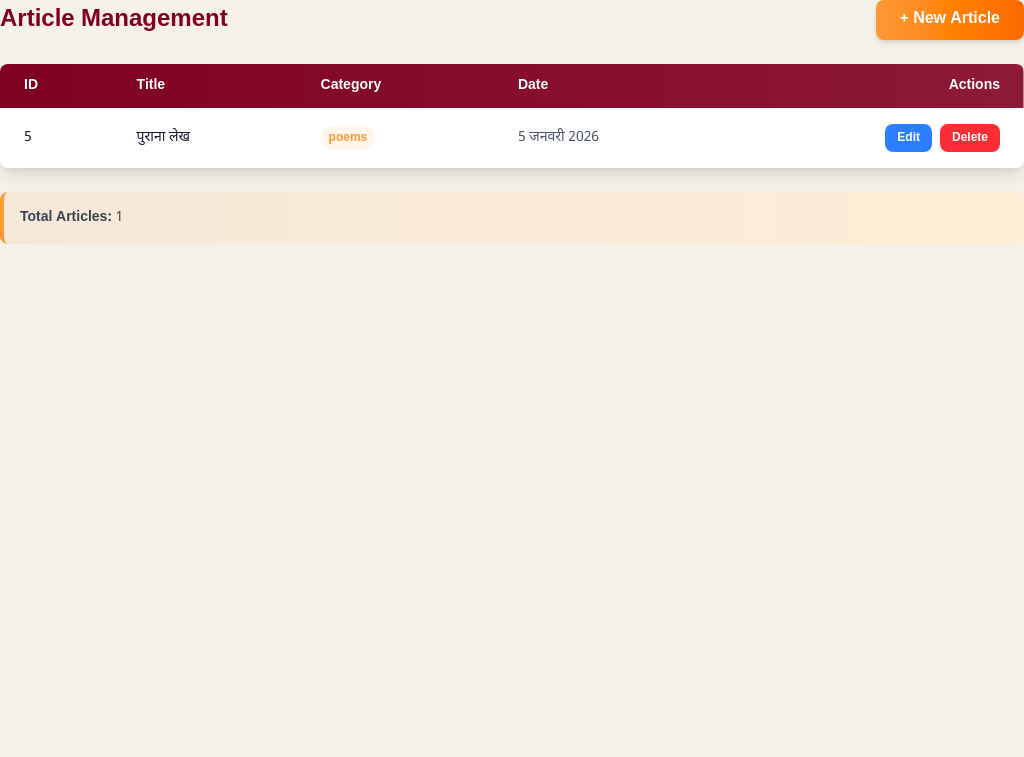
Test: ArticleManager (admin) › fills the form when editing and saves changes to that article
Later steps or results of the test are not shown.
Click the button "Edit" at (909, 138), box [885, 124, 932, 152]
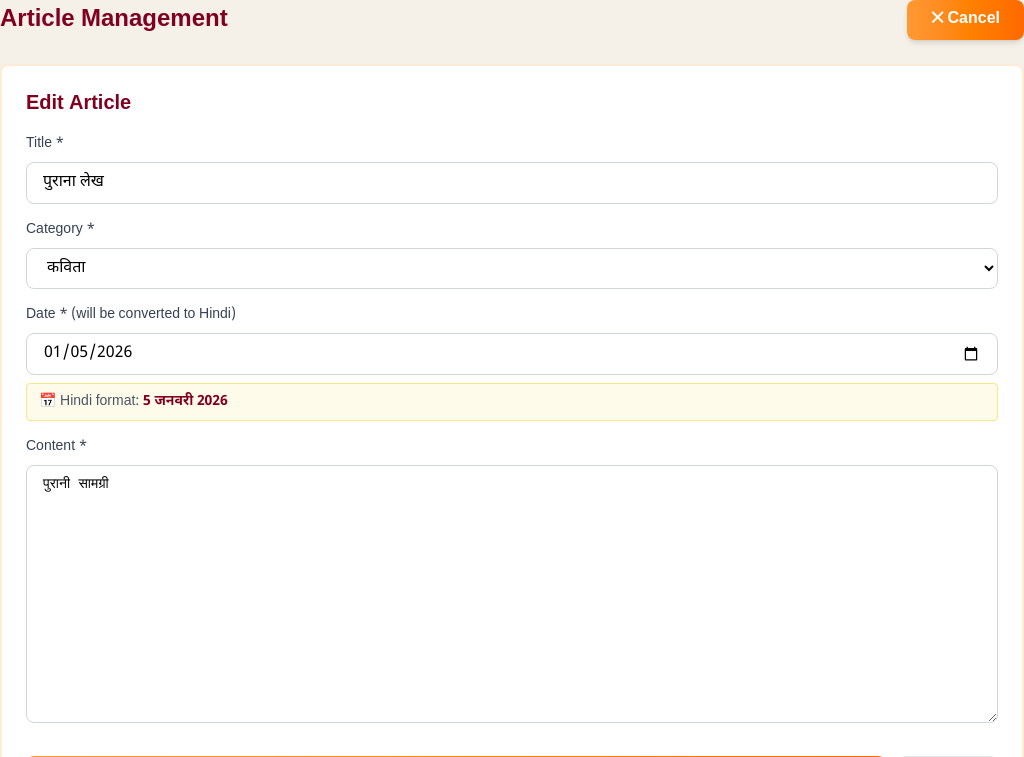
Result: the date field labelled "Date * (will be converted to Hindi)" holds "2026-01-05" at [26, 333, 998, 375]
